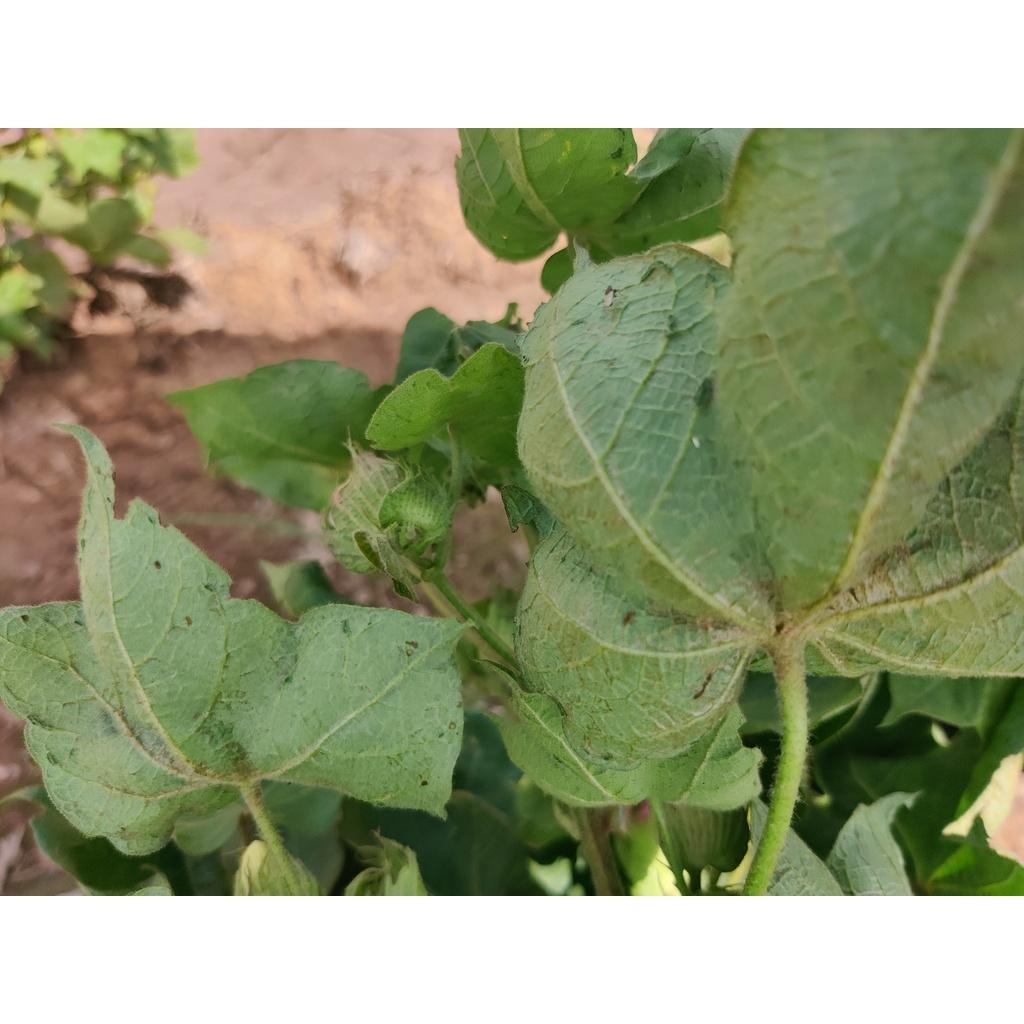adult: (691, 436, 701, 449)
